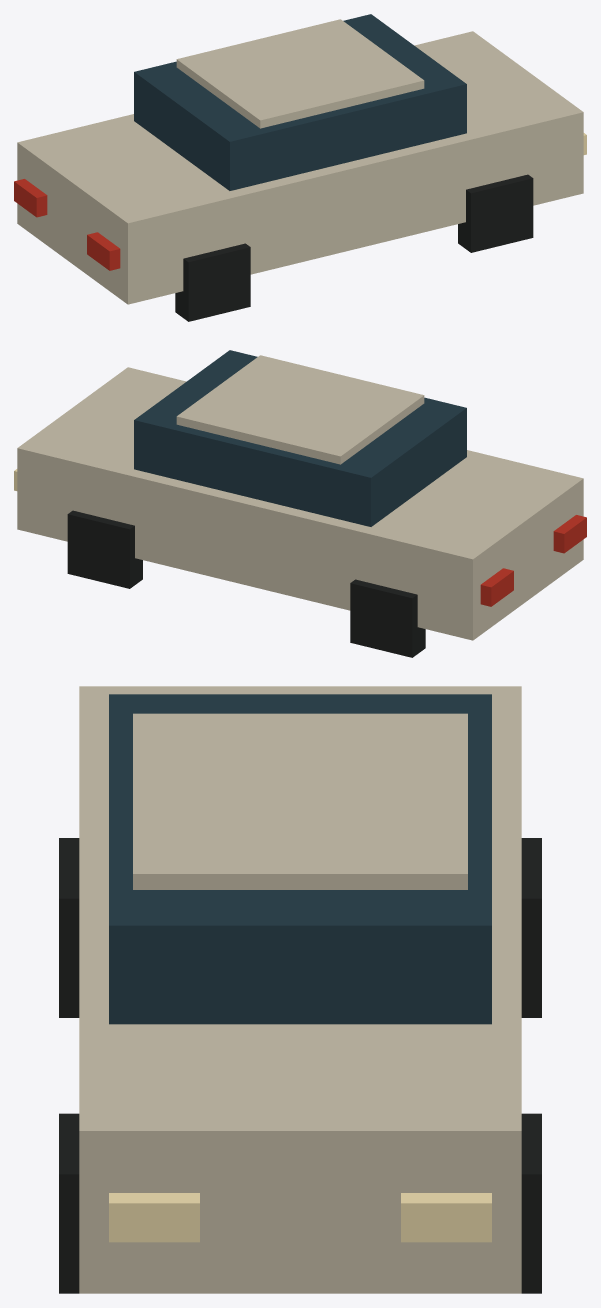
The model's file is traffic-car-2.glb.
3 views of the same model, one above another, from view 1: azimuth 30°, elevation 25°; view 2: azimuth 150°, elevation 25°; view 3: azimuth 270°, elevation 25° (orthographic). The views are drawn at different scales.
Bounding box in the file's own units: 4.61 × 1.53 × 2.02.
